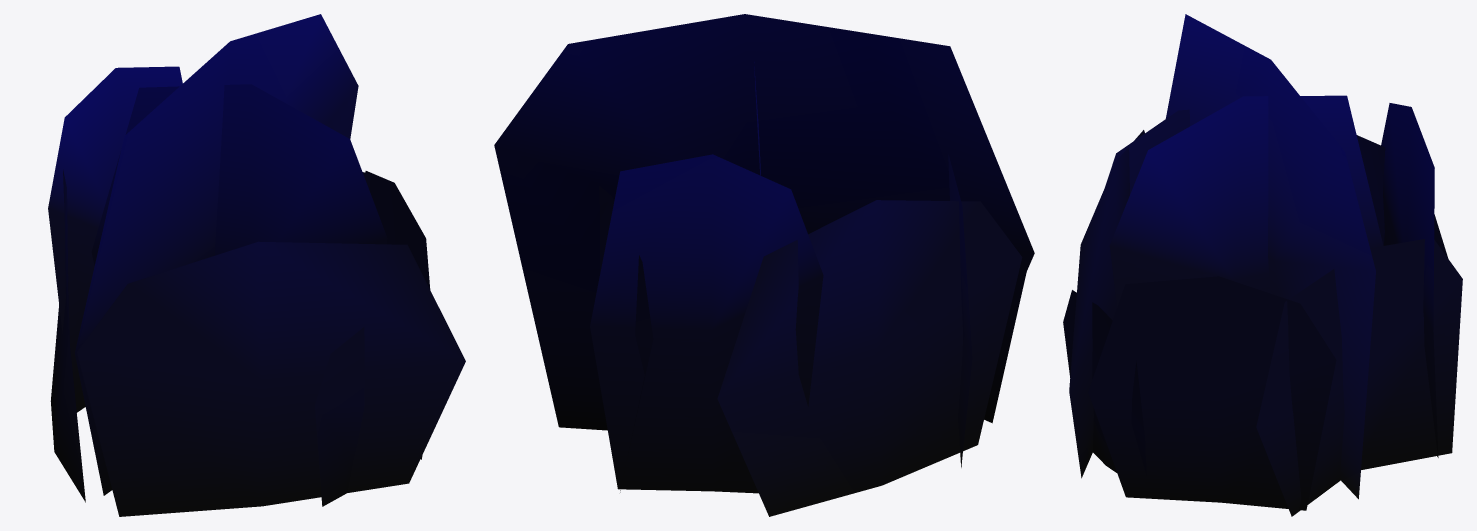
The model's file is SM_Grass_M_Patch_M_05.fbx.
The picture shows the model from 3 angles, left to right: view 1: azimuth 30°, elevation 25°; view 2: azimuth 150°, elevation 25°; view 3: azimuth 270°, elevation 25°; orthographic projection. The views are drawn at different scales.
Parts seen in each view (by area): view 1: SM_Grass_M_Patch_M_05; view 2: SM_Grass_M_Patch_M_05; view 3: SM_Grass_M_Patch_M_05.
Part boxes in pixels (x1,y1,x2,y2): SM_Grass_M_Patch_M_05: (48, 14, 465, 516); SM_Grass_M_Patch_M_05: (494, 14, 1034, 516); SM_Grass_M_Patch_M_05: (1063, 14, 1462, 516).
Bounding box in the file's own units: 147 × 132 × 139.
